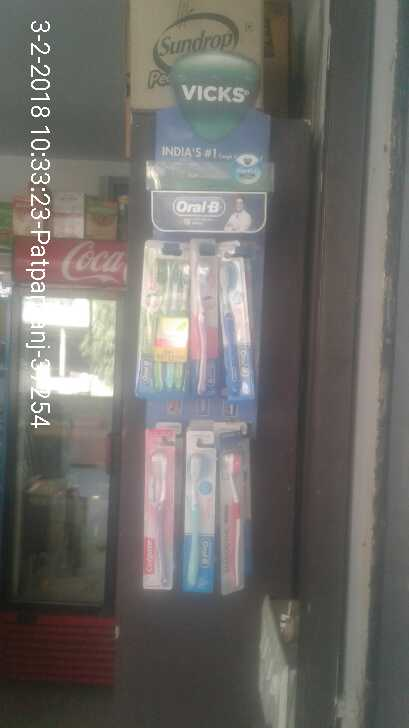oralb: (139, 247, 194, 395), (217, 255, 254, 399), (139, 433, 172, 588), (182, 440, 213, 591), (221, 444, 252, 587), (194, 252, 220, 395)
